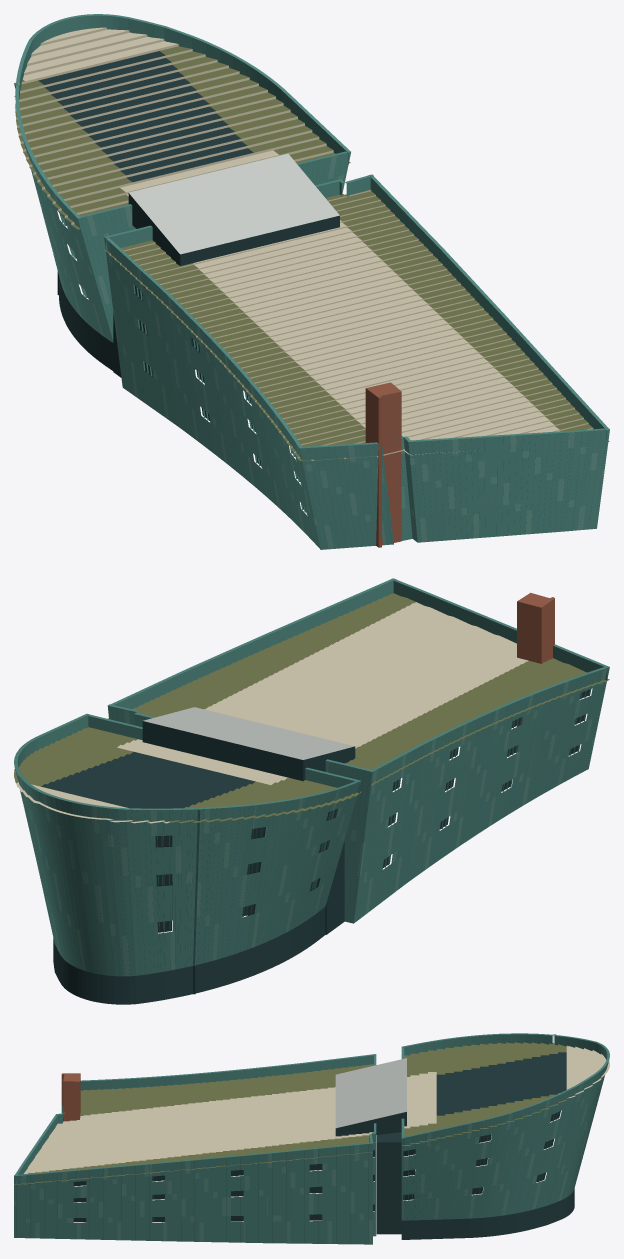
The model's file is nemo-science-museum-near.glb.
The picture shows the model from 3 angles, top to bottom: view 1: azimuth 30°, elevation 25°; view 2: azimuth 150°, elevation 25°; view 3: azimuth 270°, elevation 25°; orthographic projection. The views are drawn at different scales.
Parts seen in each view (by area): view 1: nemo-science-museum-0-copper, nemo-science-museum-0-terrace, nemo-science-museum-0-planting, nemo-science-museum-0-glass, nemo-science-museum-0-roof, nemo-science-museum-0-patina, nemo-science-museum-0-brick, nemo-science-museum-0-joints; view 2: nemo-science-museum-0-copper, nemo-science-museum-0-terrace, nemo-science-museum-0-glass, nemo-science-museum-0-planting, nemo-science-museum-0-patina, nemo-science-museum-0-roof, nemo-science-museum-0-joints, nemo-science-museum-0-brick; view 3: nemo-science-museum-0-copper, nemo-science-museum-0-terrace, nemo-science-museum-0-glass, nemo-science-museum-0-planting, nemo-science-museum-0-patina, nemo-science-museum-0-roof, nemo-science-museum-0-joints, nemo-science-museum-0-brick.
Boxes of the visible parts, left/top/right/bottom form: nemo-science-museum-0-copper: left=14, top=14, right=609, bottom=549; nemo-science-museum-0-terrace: left=15, top=27, right=593, bottom=460; nemo-science-museum-0-planting: left=14, top=46, right=609, bottom=460; nemo-science-museum-0-glass: left=38, top=51, right=339, bottom=512; nemo-science-museum-0-roof: left=129, top=153, right=339, bottom=254; nemo-science-museum-0-patina: left=31, top=155, right=604, bottom=549; nemo-science-museum-0-brick: left=365, top=382, right=401, bottom=547; nemo-science-museum-0-joints: left=39, top=153, right=609, bottom=549; nemo-science-museum-0-copper: left=14, top=578, right=609, bottom=976; nemo-science-museum-0-terrace: left=16, top=602, right=528, bottom=823; nemo-science-museum-0-glass: left=41, top=689, right=589, bottom=1004; nemo-science-museum-0-planting: left=14, top=593, right=609, bottom=823; nemo-science-museum-0-patina: left=19, top=668, right=606, bottom=976; nemo-science-museum-0-roof: left=143, top=707, right=354, bottom=759; nemo-science-museum-0-joints: left=22, top=668, right=607, bottom=975; nemo-science-museum-0-brick: left=517, top=592, right=554, bottom=751; nemo-science-museum-0-copper: left=14, top=1033, right=609, bottom=1244; nemo-science-museum-0-terrace: left=24, top=1046, right=609, bottom=1173; nemo-science-museum-0-glass: left=63, top=1052, right=574, bottom=1239; nemo-science-museum-0-planting: left=14, top=1042, right=569, bottom=1184; nemo-science-museum-0-patina: left=14, top=1064, right=606, bottom=1244; nemo-science-museum-0-roof: left=335, top=1058, right=406, bottom=1128; nemo-science-museum-0-joints: left=16, top=1089, right=594, bottom=1244; nemo-science-museum-0-brick: left=61, top=1073, right=80, bottom=1121.
Bounding box in the file's own units: 44.73 × 32.56 × 117.
